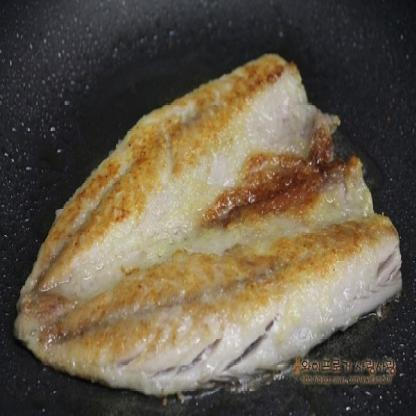Peixe: (0, 40, 416, 392)
